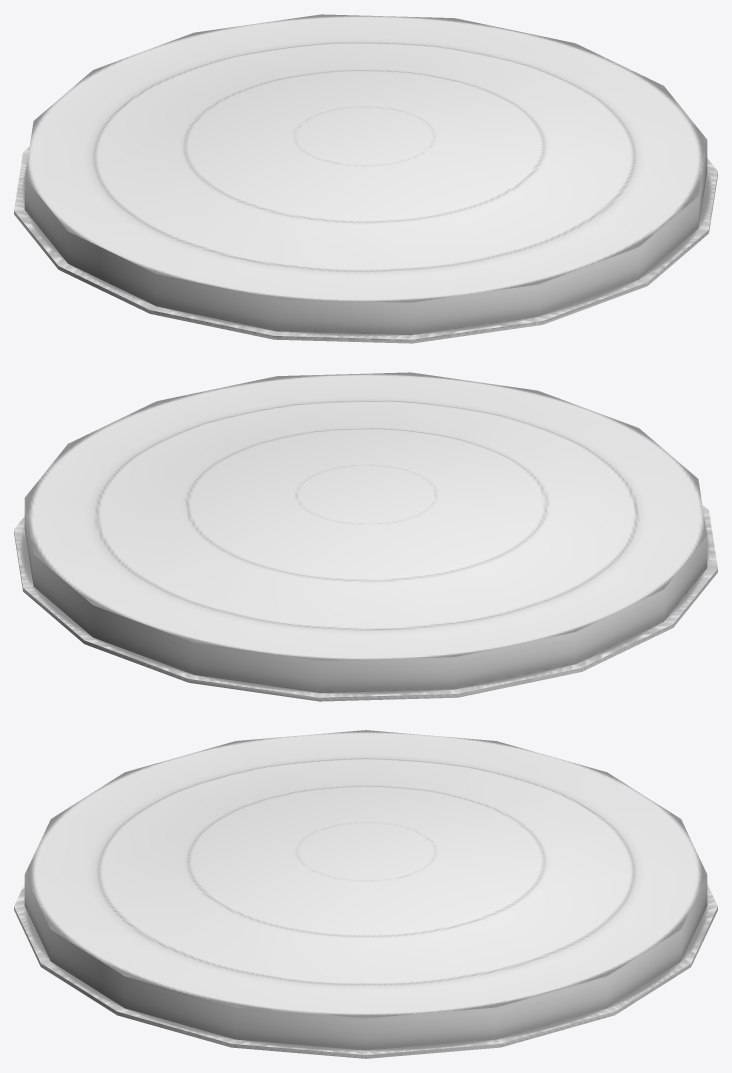
Rendered from Trashcan_Metal_Round_Lid_Low.fbx.
3 renders of one model, top to bottom at view 1: azimuth 30°, elevation 25°; view 2: azimuth 150°, elevation 25°; view 3: azimuth 270°, elevation 25°, orthographic.
Visible parts, largest first — view 1: Trashcan_Metal_Round_Lid_Low_New; view 2: Trashcan_Metal_Round_Lid_Low_New; view 3: Trashcan_Metal_Round_Lid_Low_New.
Boxes of the visible parts, <box> form: Trashcan_Metal_Round_Lid_Low_New: <box>14,14,717,343</box>; Trashcan_Metal_Round_Lid_Low_New: <box>14,372,717,701</box>; Trashcan_Metal_Round_Lid_Low_New: <box>14,730,717,1058</box>.
Bounding box in the file's own units: 109 × 9.86 × 109.
1 material, 1 textured.
